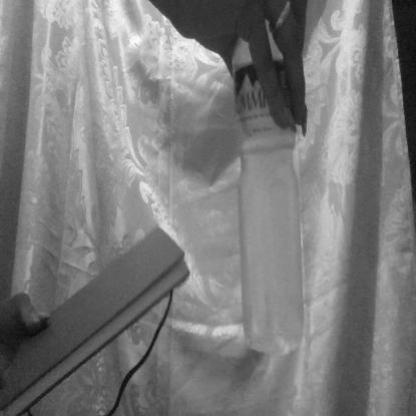Plastic Bottle: (231, 13, 313, 351)
